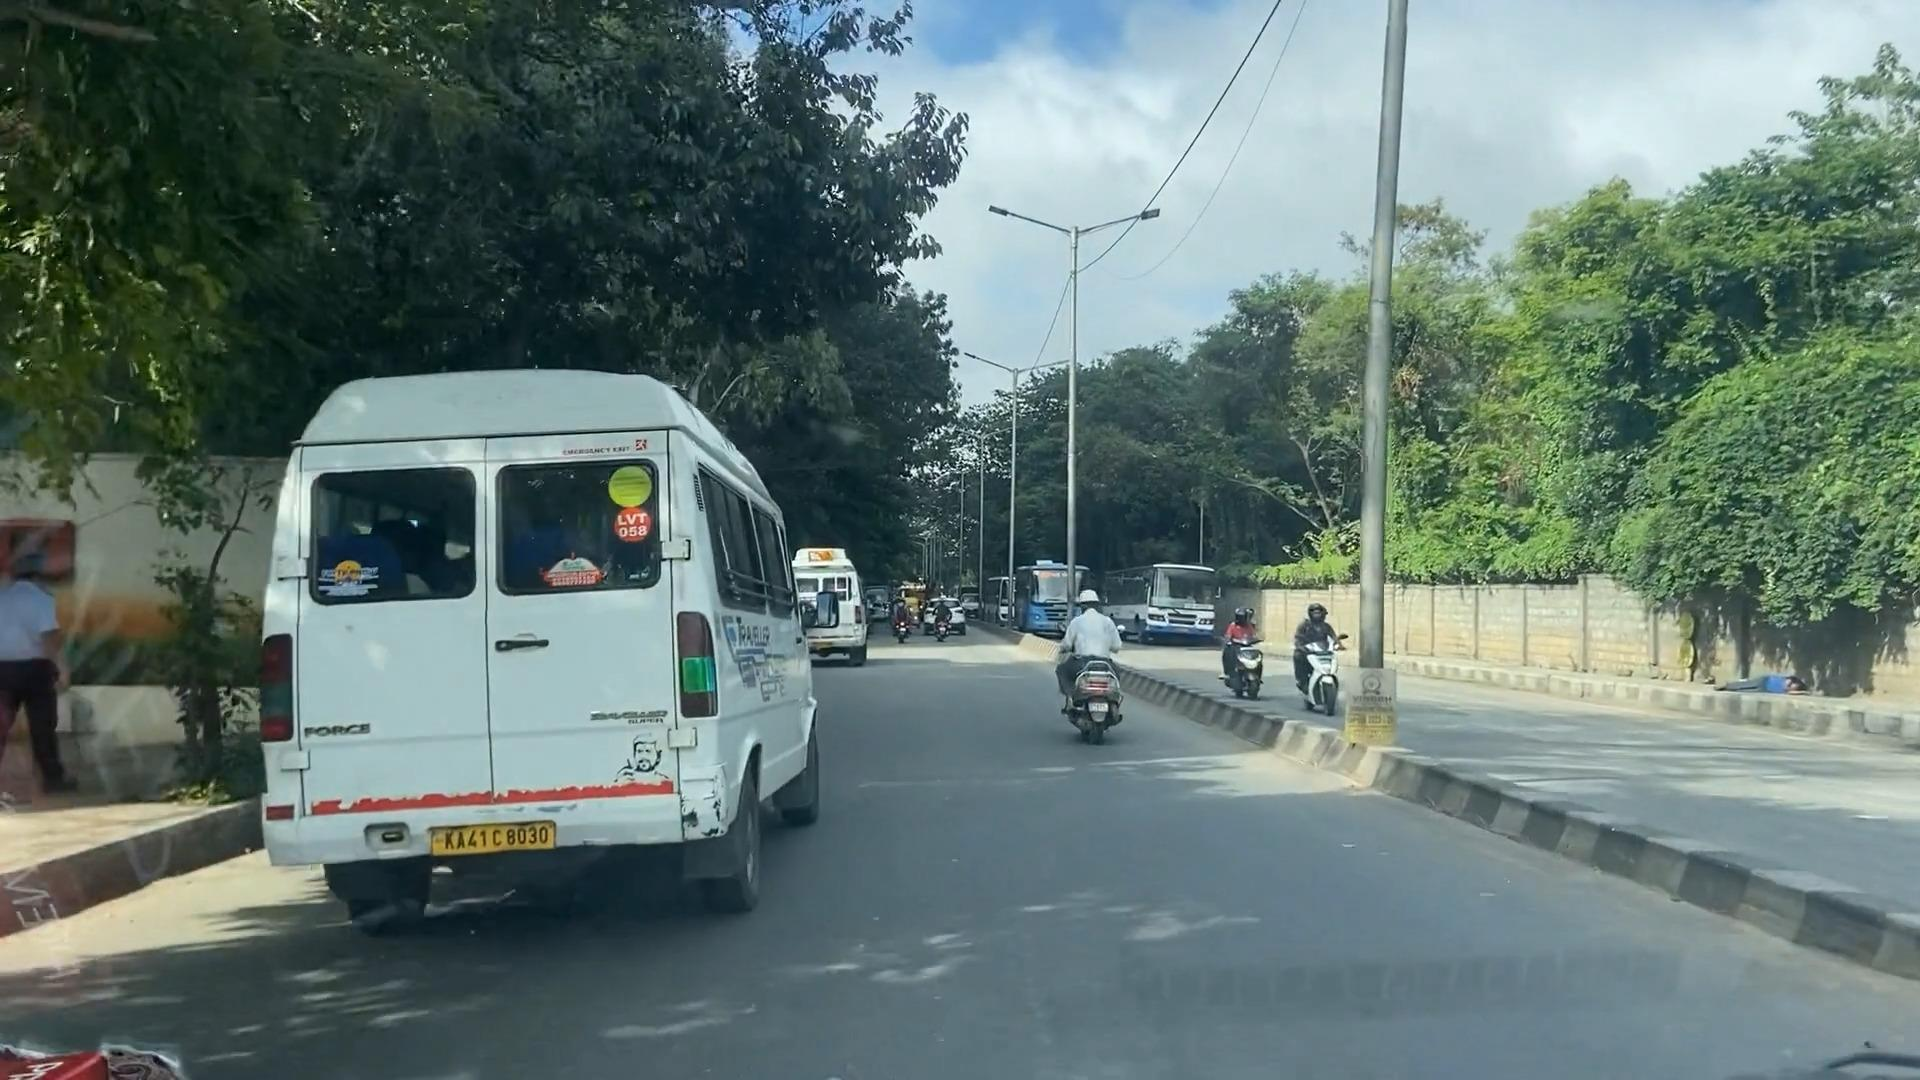HMV: (306, 396, 839, 928)
LMV: (1013, 558, 1151, 762)
